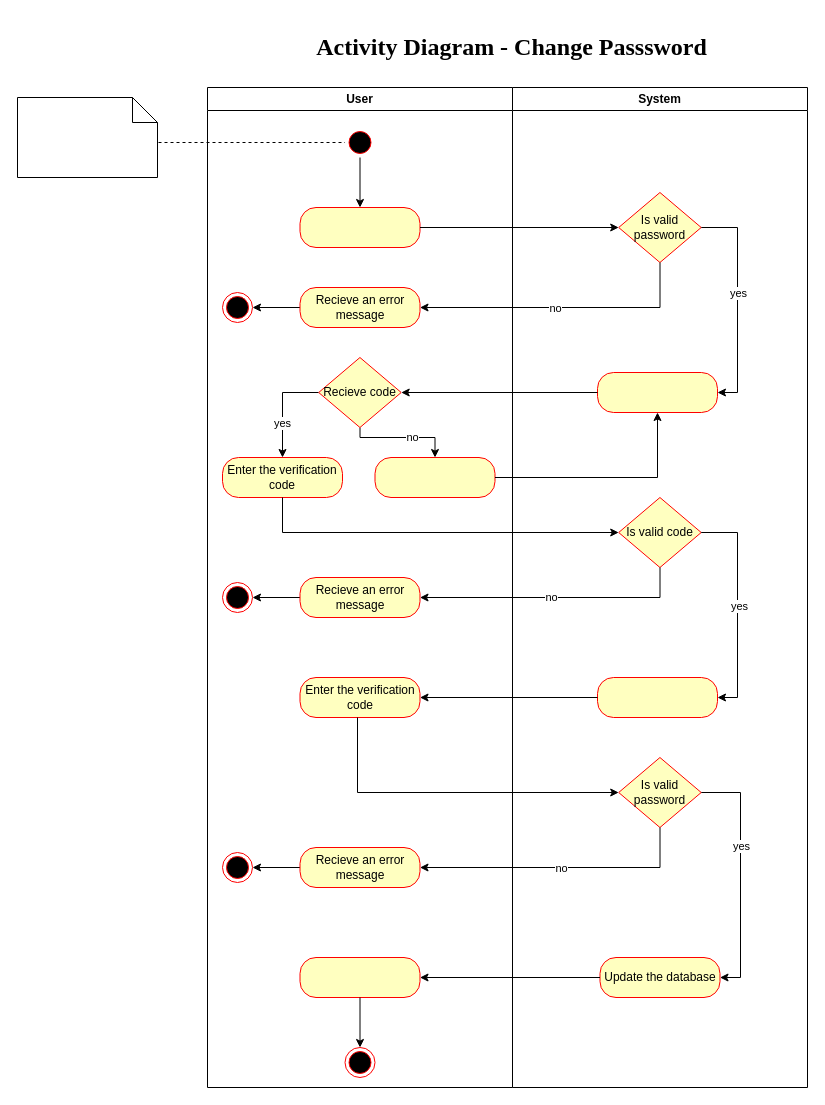
The diagram is 825 pixels wide and 1105 high, and some of its shapes have lost their labels. Here are the shapes that lost their labels. From the top down, the centre of each, then its label:
the point at 87,137: An authenticated user is trying to change the password
the point at 359,227: Enter existing password
the point at 657,392: Send a verification code to the email
the point at 434,477: Request a new verification code
the point at 657,697: Let user to enter the new password
the point at 359,977: Recive a success message
